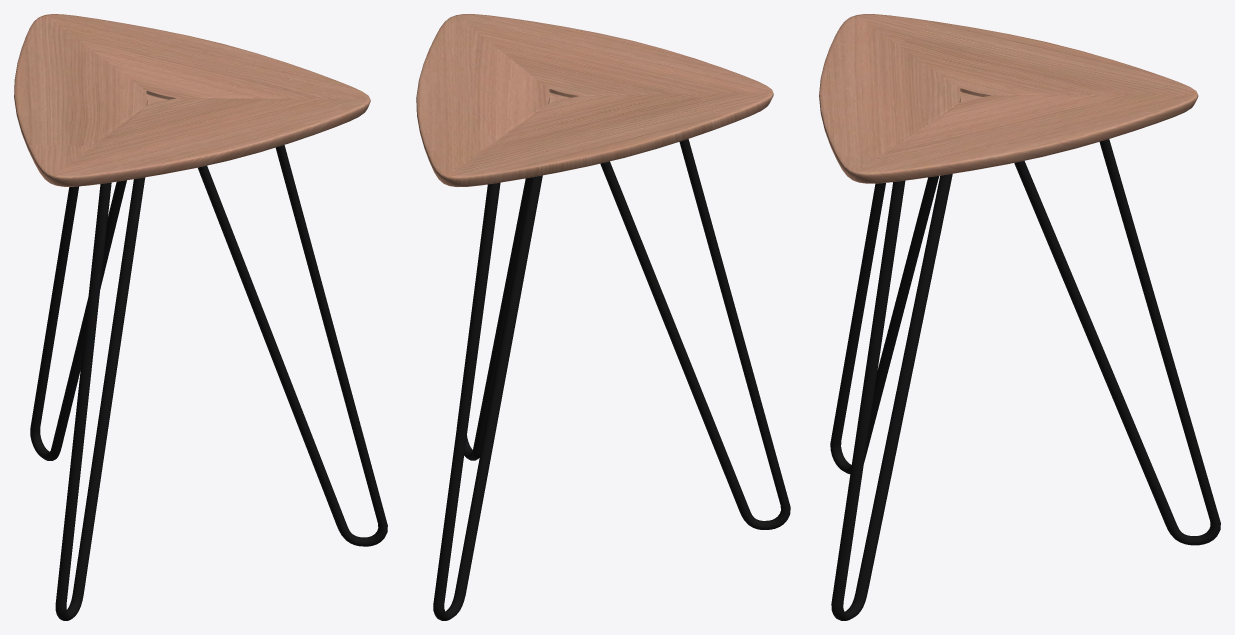
Rendered from abo-B07GDKZWCK.glb.
3 renders of one model, left to right at view 1: azimuth 30°, elevation 25°; view 2: azimuth 150°, elevation 25°; view 3: azimuth 270°, elevation 25°, orthographic. The views are drawn at different scales.
Bounding box in the file's own units: 0.442 × 0.564 × 0.455.
1 material, 1 textured.
